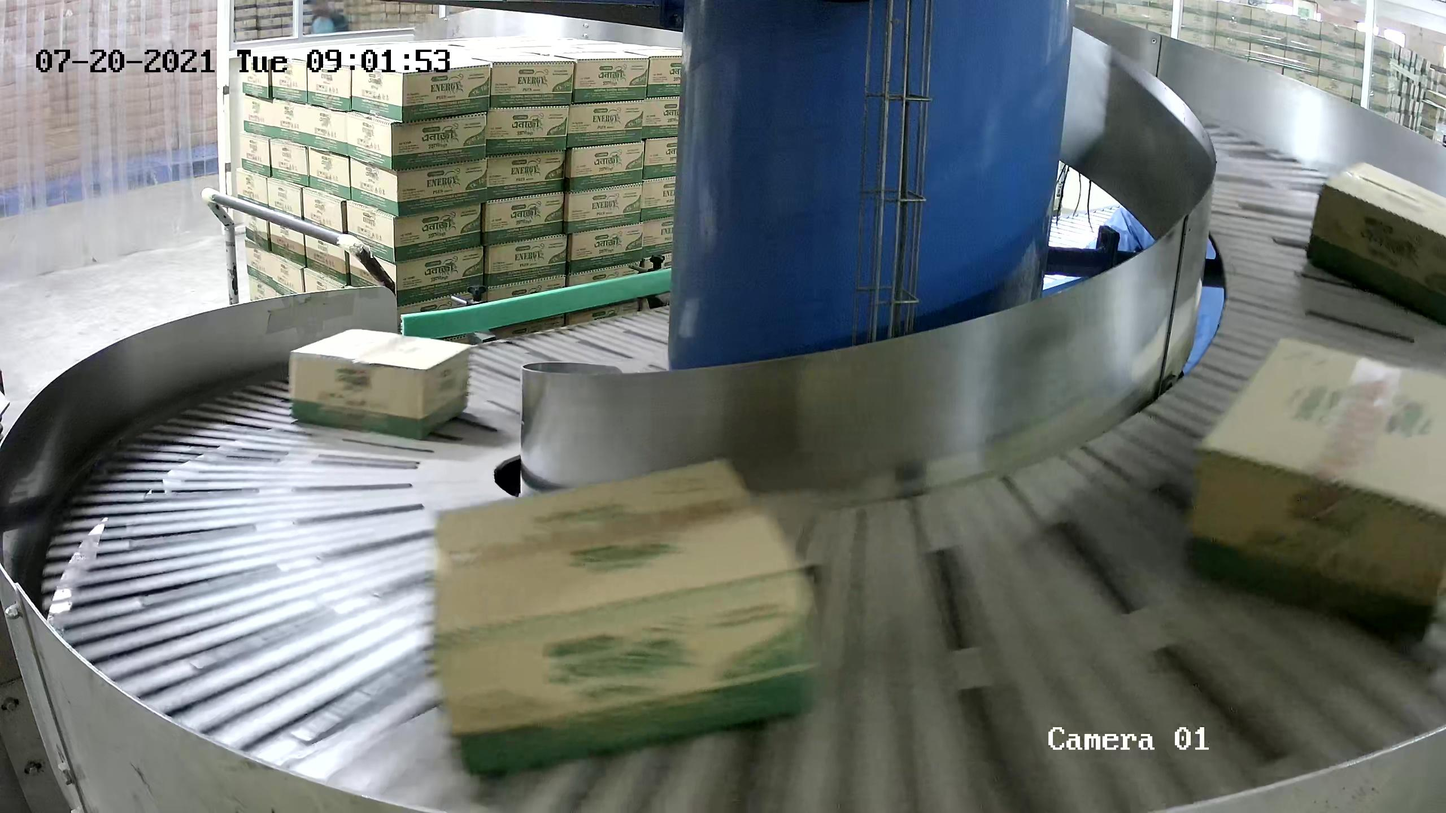Box: (427, 450, 826, 781), (1184, 330, 1446, 654), (1305, 161, 1446, 326), (287, 326, 474, 441)
